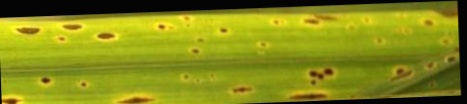Bacterial_Leaf_Blight: (296, 62, 341, 87), (12, 18, 43, 38), (394, 60, 413, 92), (289, 89, 331, 102), (419, 15, 442, 38), (115, 93, 162, 104), (226, 82, 266, 94), (92, 29, 120, 46), (267, 14, 287, 37), (0, 90, 31, 104), (425, 54, 451, 70), (180, 67, 198, 88), (298, 8, 316, 26), (253, 38, 274, 53), (177, 12, 195, 29), (77, 74, 89, 97), (40, 70, 56, 87), (188, 43, 203, 59), (375, 35, 387, 54), (343, 21, 359, 35), (62, 23, 86, 32), (218, 24, 230, 38), (157, 21, 168, 34)
